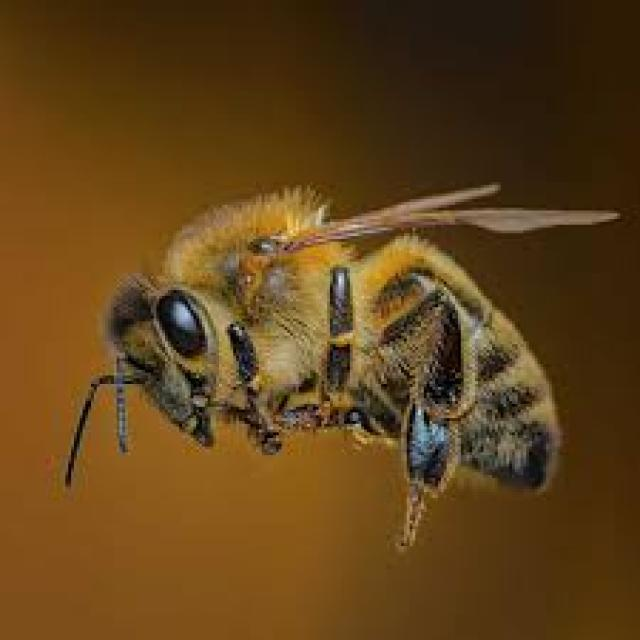Bees: (57, 171, 620, 550)
